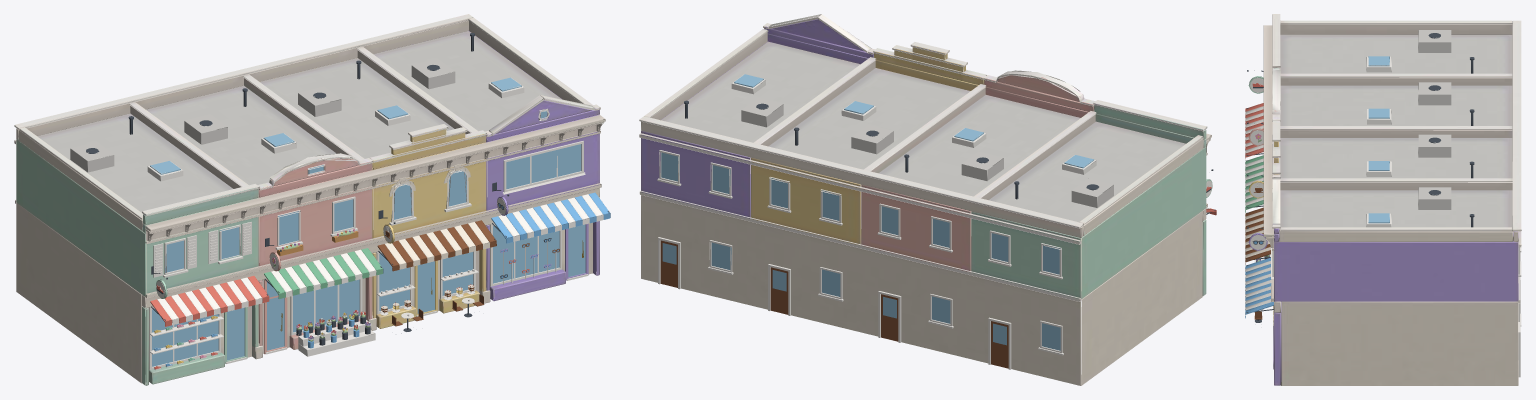
The model's file is shopping-street-light.glb.
3 views of the same model, side by side, from view 1: azimuth 30°, elevation 25°; view 2: azimuth 150°, elevation 25°; view 3: azimuth 270°, elevation 25° (orthographic). The views are drawn at different scales.
Parts seen in each view (by area): view 1: shopping-street_body, shopping-street_windows, shopping-street_details, shopping-street_goods, shopping-street_plants; view 2: shopping-street_body, shopping-street_windows, shopping-street_details; view 3: shopping-street_body, shopping-street_details, shopping-street_goods, shopping-street_windows.
Part boxes in pixels (box(x1,y1,x2,y2)): shopping-street_body: box(14, 14, 605, 385); shopping-street_windows: box(149, 108, 588, 369); shopping-street_details: box(70, 33, 610, 356); shopping-street_goods: box(149, 182, 609, 370); shopping-street_plants: box(281, 229, 370, 341); shopping-street_body: box(639, 14, 1211, 385); shopping-street_windows: box(657, 150, 1063, 369); shopping-street_details: box(684, 74, 1216, 215); shopping-street_body: box(1263, 14, 1521, 385); shopping-street_details: box(1245, 30, 1474, 319); shopping-street_goods: box(1246, 70, 1273, 322); shopping-street_windows: box(1271, 188, 1521, 381).
Size of the model in its own units: 24 by 9.66 by 13.39.
40 materials, 1 textured.
